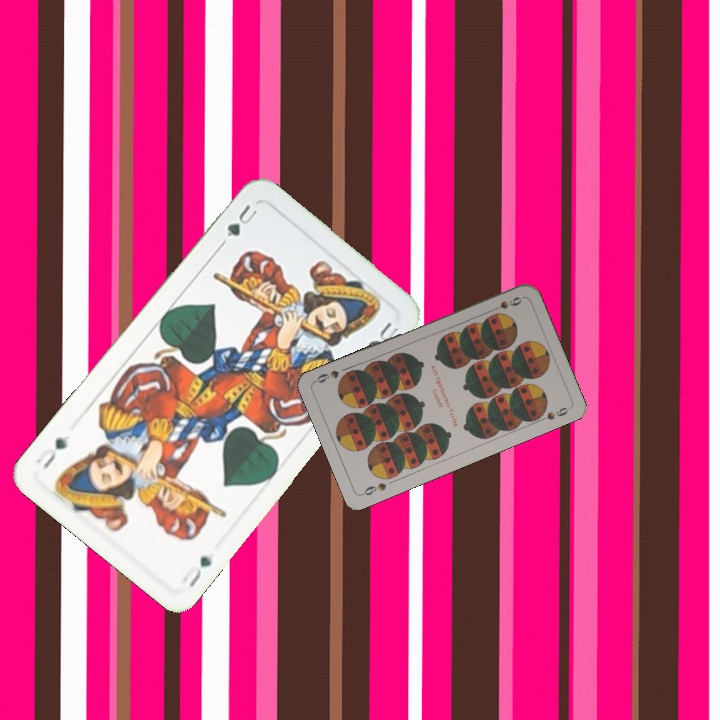GU: (177, 551, 216, 590), (222, 200, 260, 240)
S9: (486, 293, 524, 315), (358, 478, 389, 498)
